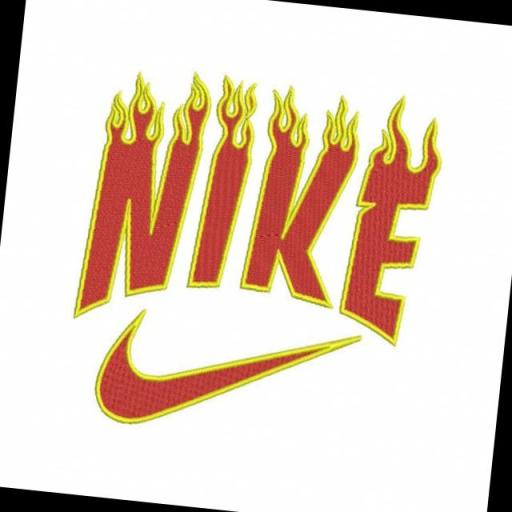Nike: (74, 109, 454, 350), (92, 321, 336, 444)
